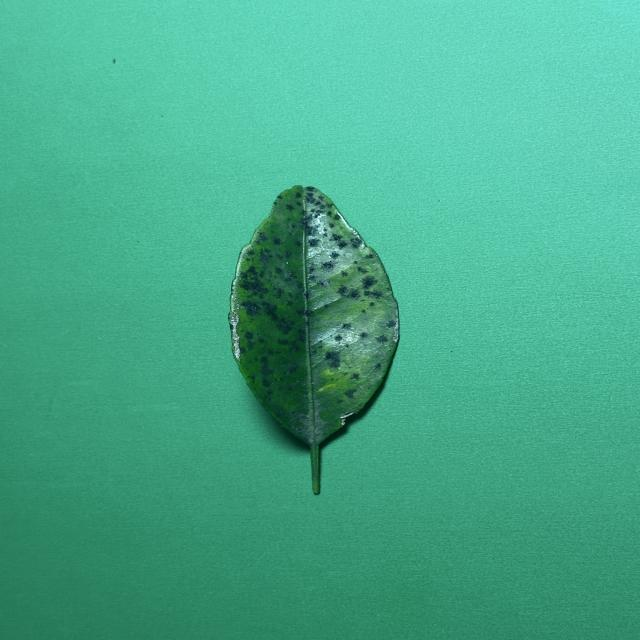sooty_mold: (229, 186, 399, 491)
